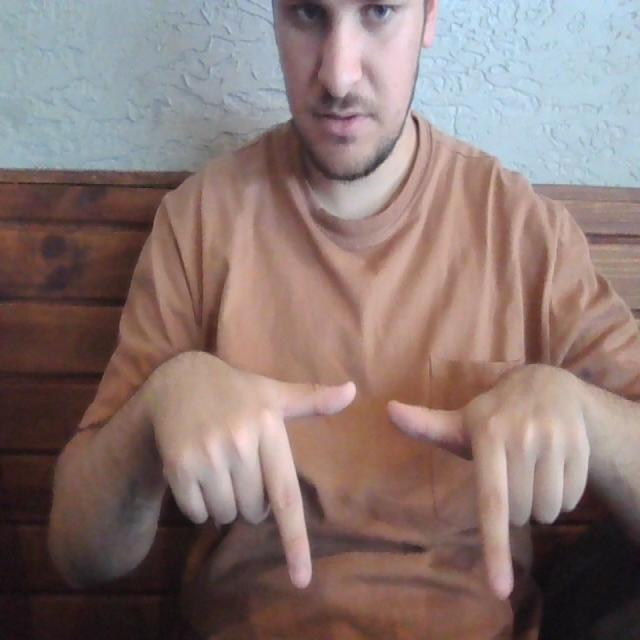Nerede: (251, 372, 521, 607)
